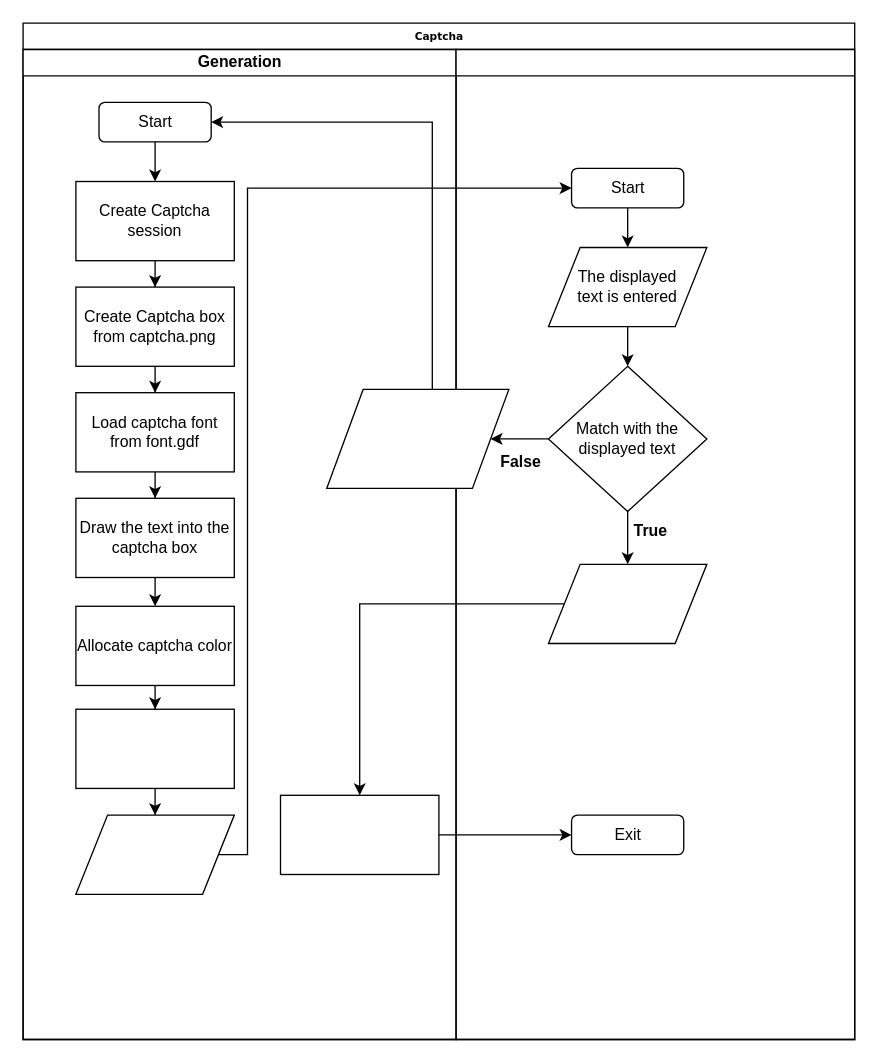
The diagram is 878 pixels wide and 1063 high, and some of its shapes have lost their labels. The box of each missing label's shape, as (x1, y1, x2, y2) in pixels:
Display image to the user: (75, 814, 234, 894)
Image destroy: (279, 794, 439, 874)
Make the captcha to image png: (75, 708, 234, 788)
Successful: (547, 563, 707, 644)
Verification: (455, 48, 855, 1040)
Your Verification code is incorrect!, please try again: (325, 388, 509, 488)
